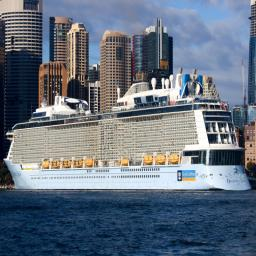cruises: (6, 67, 254, 196)
